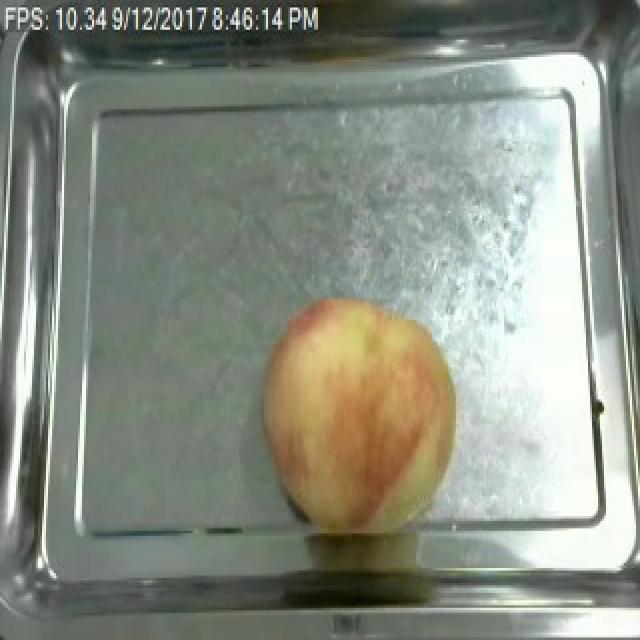Fruit: (254, 288, 468, 538)
